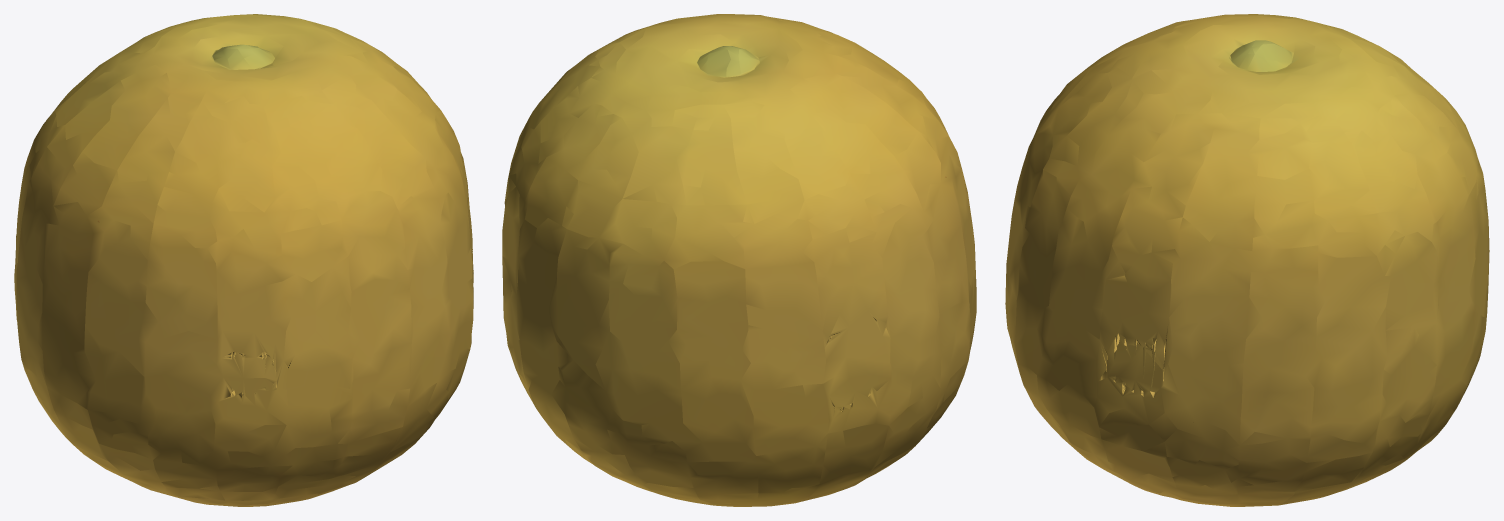
The model's file is 0006_mask_007_toy_orange.glb.
The picture shows the model from 3 angles, left to right: view 1: azimuth 30°, elevation 25°; view 2: azimuth 150°, elevation 25°; view 3: azimuth 270°, elevation 25°; orthographic projection. The views are drawn at different scales.
Parts seen in each view (by area): view 1: mask_007_object; view 2: mask_007_object; view 3: mask_007_object.
Part boxes in pixels (<box>): mask_007_object: <box>14,14,473,506</box>; mask_007_object: <box>502,14,976,506</box>; mask_007_object: <box>1005,14,1489,506</box>.
Bounding box in the file's own units: 0.1329 × 0.1335 × 0.1349.
